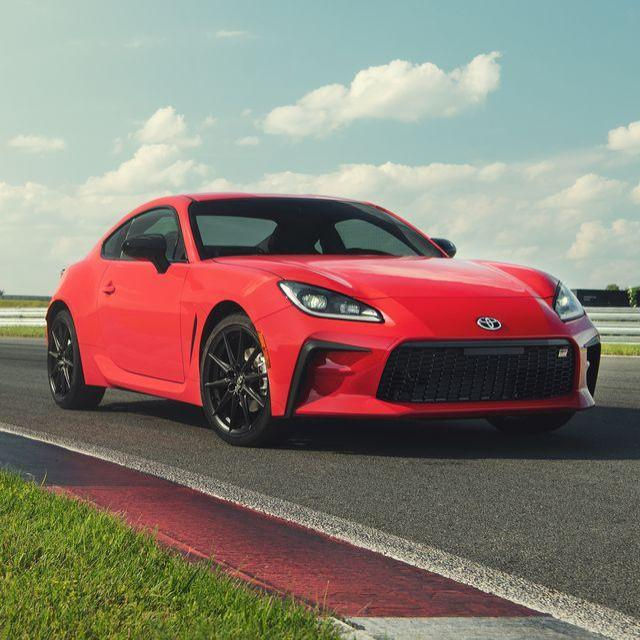cars21: (42, 189, 606, 448)
